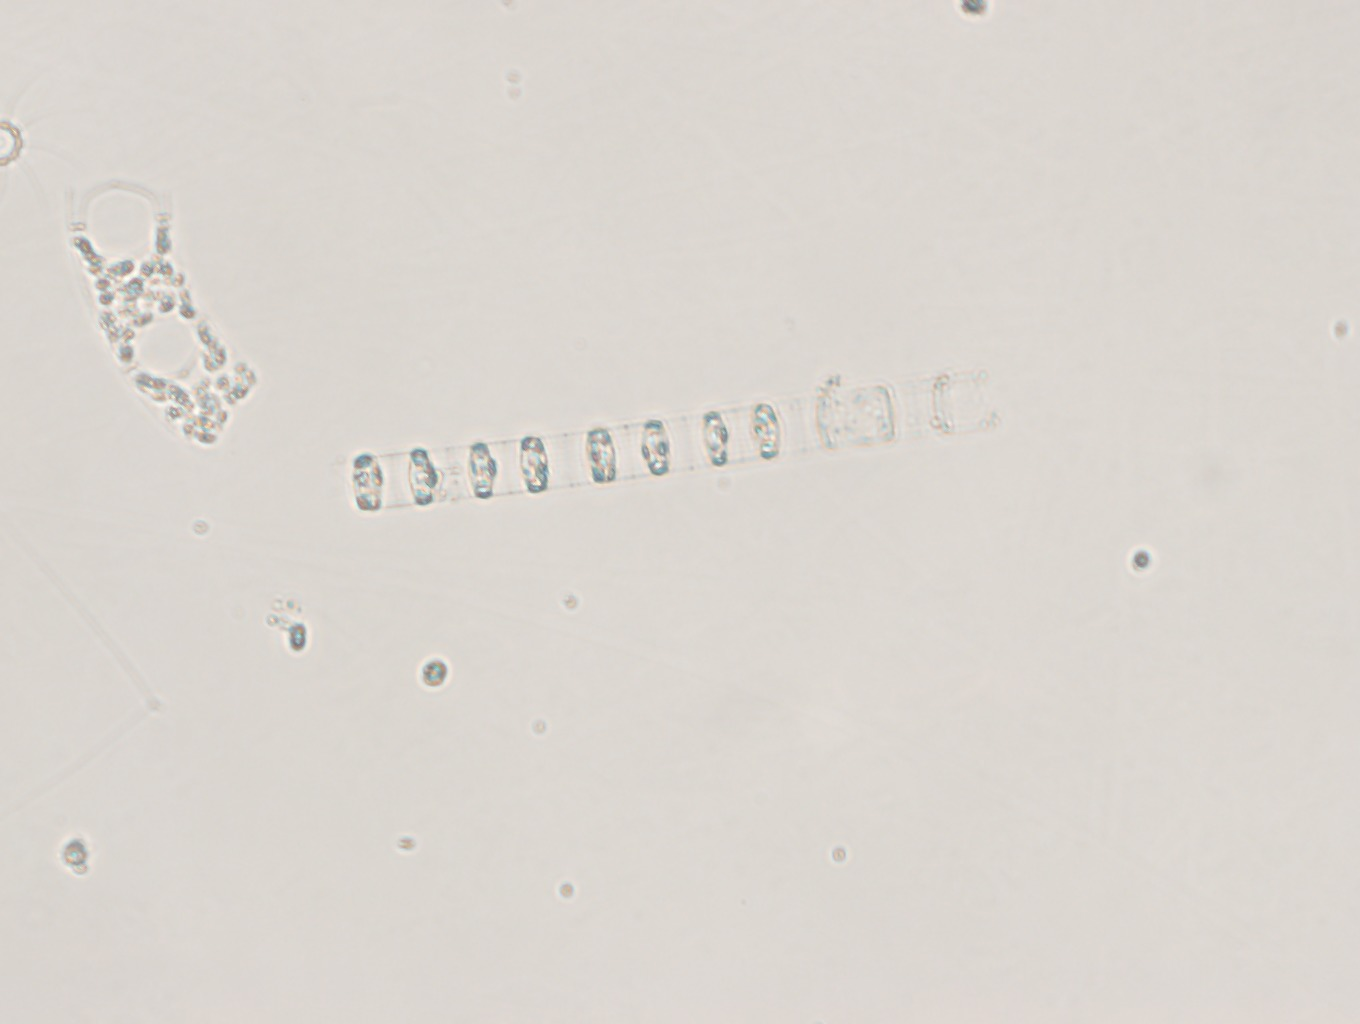eucampia: (65, 137, 269, 456)
skeletonema: (345, 366, 1086, 525)
